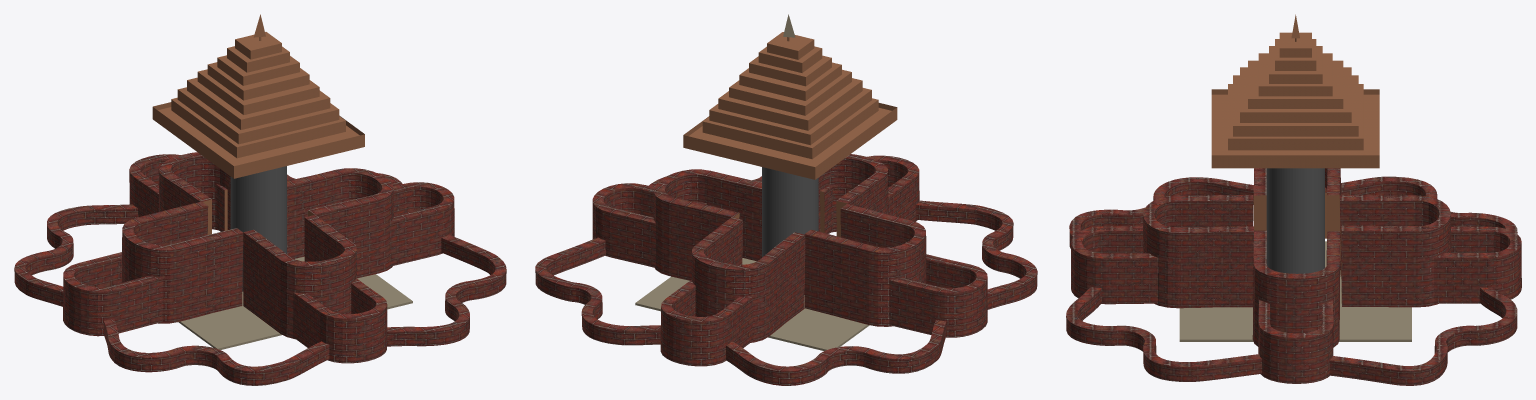
The model's file is texturedSmvFountainnew.glb.
The picture shows the model from 3 angles, left to right: view 1: azimuth 30°, elevation 25°; view 2: azimuth 150°, elevation 25°; view 3: azimuth 270°, elevation 25°; orthographic projection. The views are drawn at different scales.
Visible parts, largest first — view 1: Cube.007; view 2: Cube.007; view 3: Cube.007.
Part boxes in pixels (x1,y1,x2,y2): Cube.007: (14, 14, 506, 385); Cube.007: (535, 14, 1037, 385); Cube.007: (1066, 14, 1521, 385).
Size of the model in its own units: 27.68 by 18.61 by 27.49.
4 materials, 3 textured.
